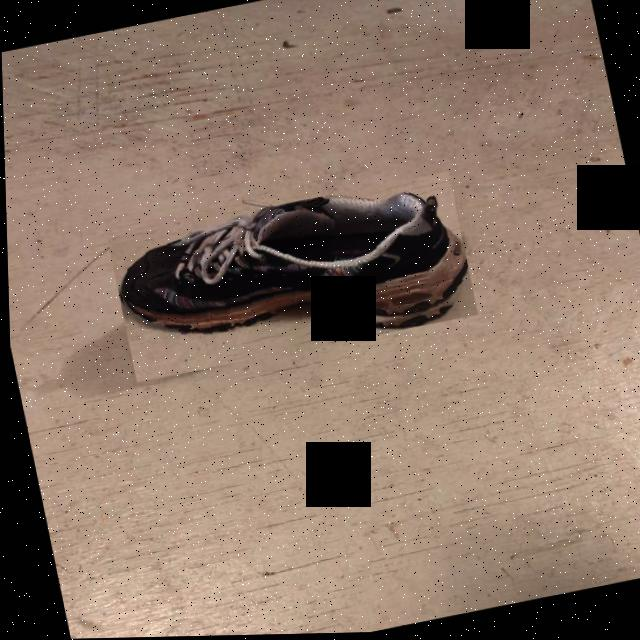shoe: (104, 173, 477, 383)
